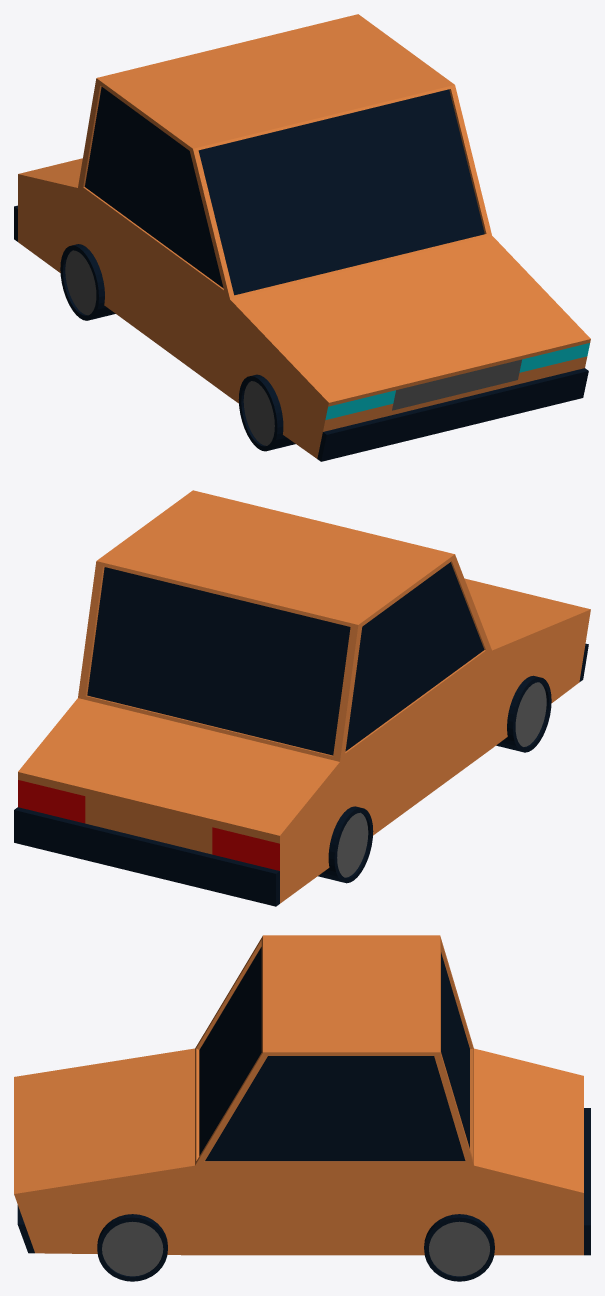
The model's file is Car2.fbx.
3 views of the same model, one above another, from view 1: azimuth 30°, elevation 25°; view 2: azimuth 150°, elevation 25°; view 3: azimuth 270°, elevation 25° (orthographic). The views are drawn at different scales.
Visible parts, largest first — view 1: Car2; view 2: Car2; view 3: Car2.
Part boxes in pixels (box(x1,y1,x2,y2)): Car2: box(14, 14, 590, 461); Car2: box(14, 490, 590, 906); Car2: box(14, 935, 590, 1281).
Bounding box in the file's own units: 274 × 234 × 542.
